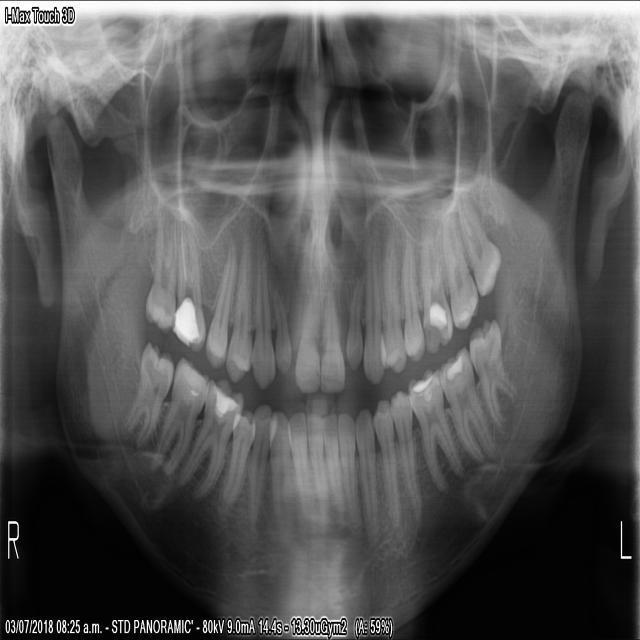LCU: (360, 224, 385, 386)
LID: (353, 401, 379, 542), (335, 411, 360, 528), (321, 410, 344, 505)
LIU: (319, 240, 345, 396), (343, 257, 365, 373)
LMD: (437, 341, 498, 463), (406, 366, 461, 491), (464, 311, 518, 429)
LMU: (455, 191, 503, 297), (437, 210, 478, 332), (418, 245, 453, 354)
LPMD: (388, 386, 421, 525), (370, 396, 398, 528)
LPMU: (379, 249, 406, 373), (400, 247, 424, 365)
RCD: (266, 401, 299, 540)
RCU: (249, 233, 275, 389)
RID: (286, 406, 319, 525), (304, 409, 329, 512)
RIU: (291, 229, 319, 394), (271, 240, 290, 375)
RMD: (144, 352, 209, 485), (120, 334, 174, 448)
RMU: (141, 221, 177, 334)
RPMD: (217, 402, 257, 517), (245, 399, 276, 527)
RPMU: (201, 240, 237, 373), (170, 226, 204, 352), (225, 239, 252, 386)
